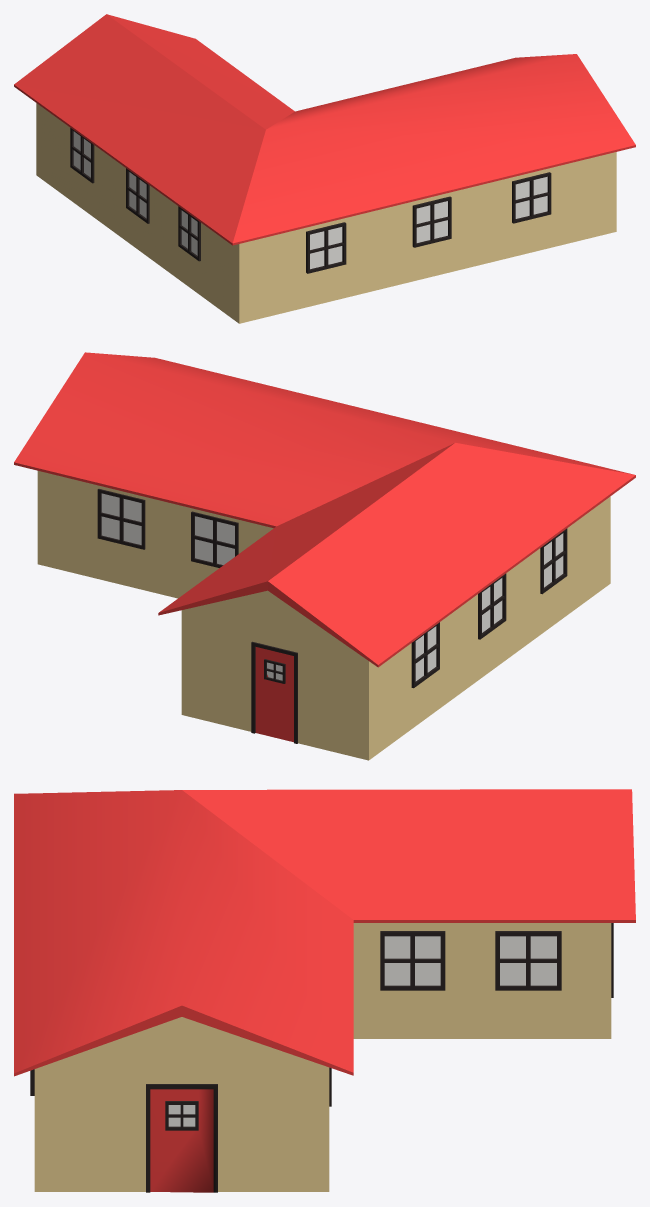
Rendered from House 02 R.FBX.
3 views of the same model, one above another, from view 1: azimuth 30°, elevation 25°; view 2: azimuth 150°, elevation 25°; view 3: azimuth 270°, elevation 25° (orthographic). The views are drawn at different scales.
Visible parts, largest first — view 1: Box001; view 2: Box001; view 3: Box001.
Boxes of the visible parts, x1,y1,x2,y2 form: Box001: [14, 14, 635, 323]; Box001: [14, 352, 635, 760]; Box001: [14, 789, 635, 1192].
Bounding box in the file's own units: 31.62 × 10.23 × 29.63.
